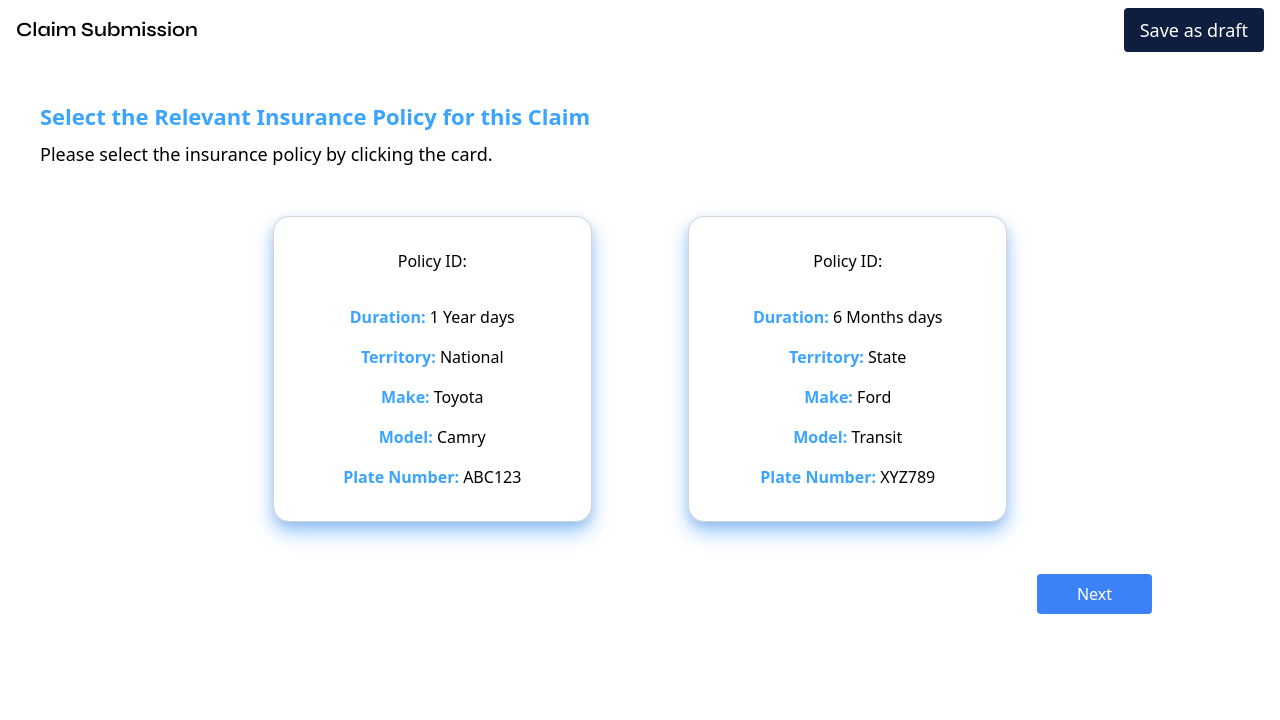
Scenario: ClaimPolicySelection › shows error when trying to proceed without selecting a policy
Click the button "Next" at (1094, 594), box x1=1037 y1=574 x2=1152 y2=614
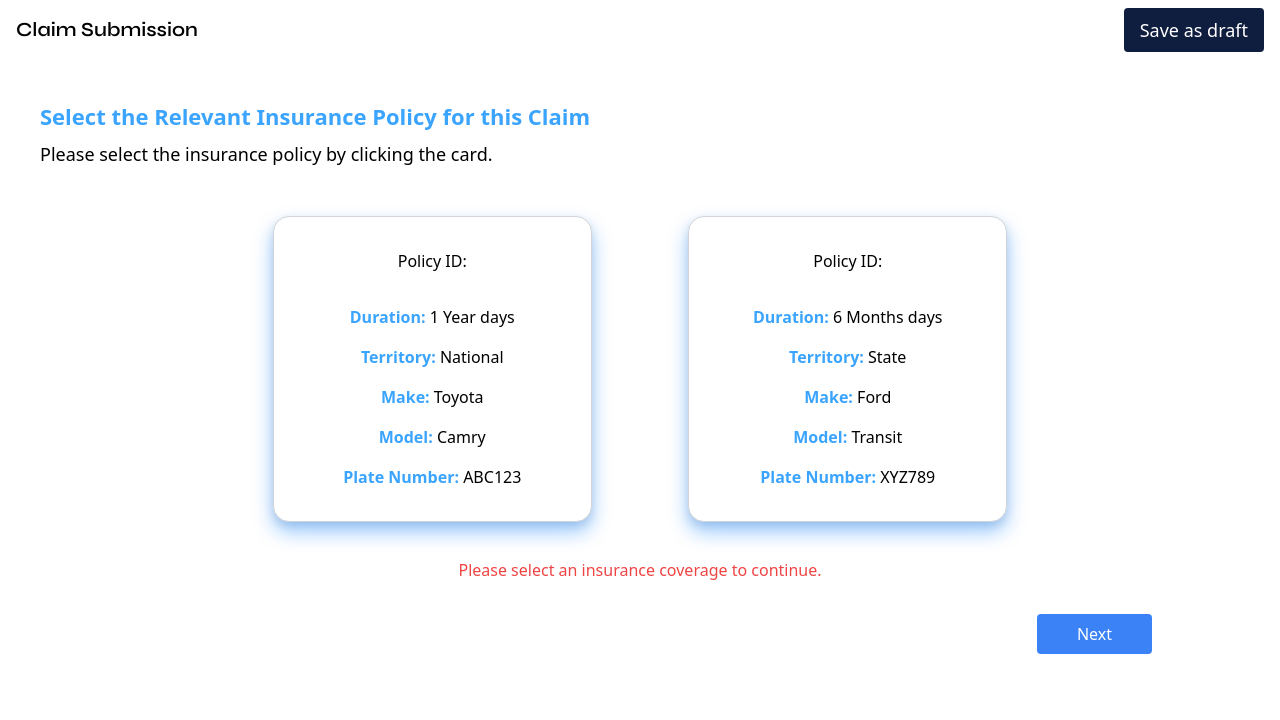
Result: the text "Please select an insurance coverage to continue." is shown at x1=458 y1=558 x2=822 y2=582
